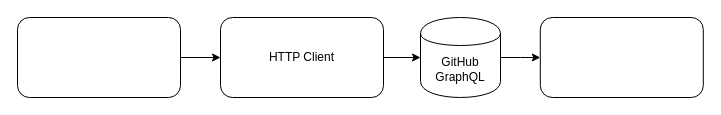
Image size: 721x115. Some labels were removed from this diagram. The centre of each missing label's shape, as x and y in pixels:
"Query Builder" goes at [98,57].
"Scala Models" goes at [621,57].
